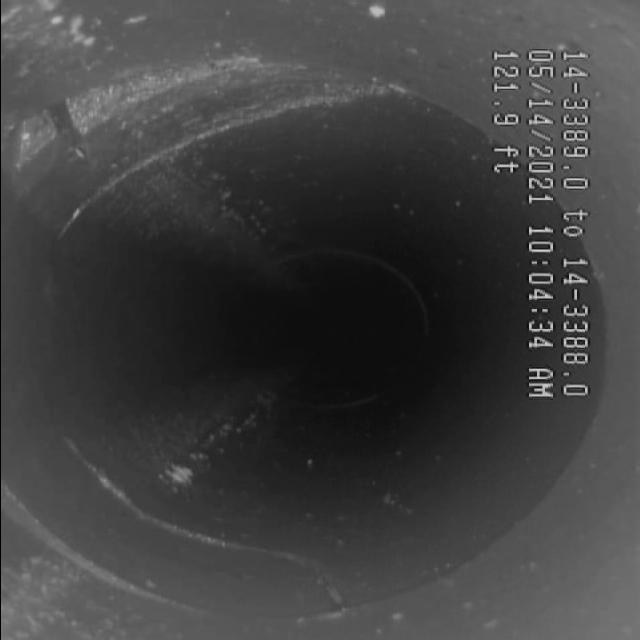Crack: (60, 470, 345, 582)
